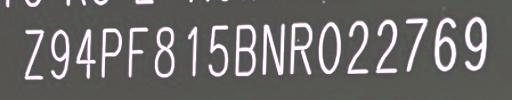letter: (400, 15, 430, 71), (371, 17, 399, 75), (433, 14, 459, 72), (345, 17, 371, 75), (463, 15, 489, 71), (317, 19, 343, 75), (288, 20, 314, 76), (232, 22, 258, 78), (261, 22, 287, 76), (46, 27, 72, 81), (206, 22, 230, 78), (74, 26, 98, 82), (152, 25, 176, 79), (126, 25, 148, 81), (100, 27, 122, 81), (23, 28, 45, 80), (184, 25, 198, 78)
